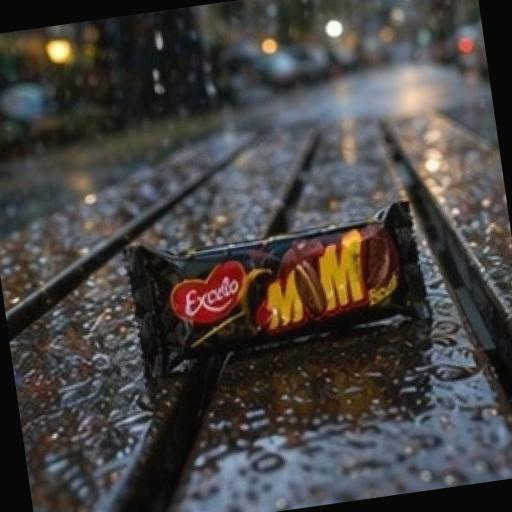MOMO: (62, 152, 498, 434)
